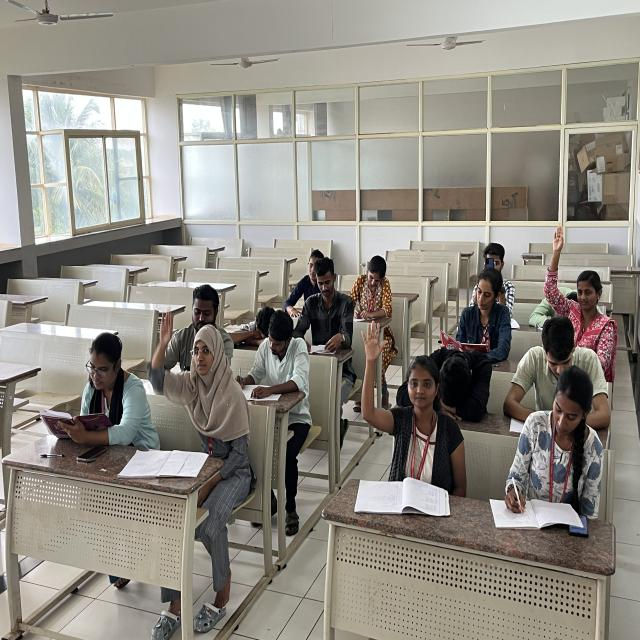Hand Rising: (353, 309, 455, 514), (154, 298, 252, 492), (544, 218, 614, 345)
Reading: (33, 336, 156, 454), (436, 264, 516, 360), (292, 258, 361, 358)
Sleeping: (392, 327, 499, 427)
Using Phone: (470, 242, 516, 313)
Writing: (491, 359, 605, 542), (230, 305, 316, 416), (351, 252, 398, 324)
